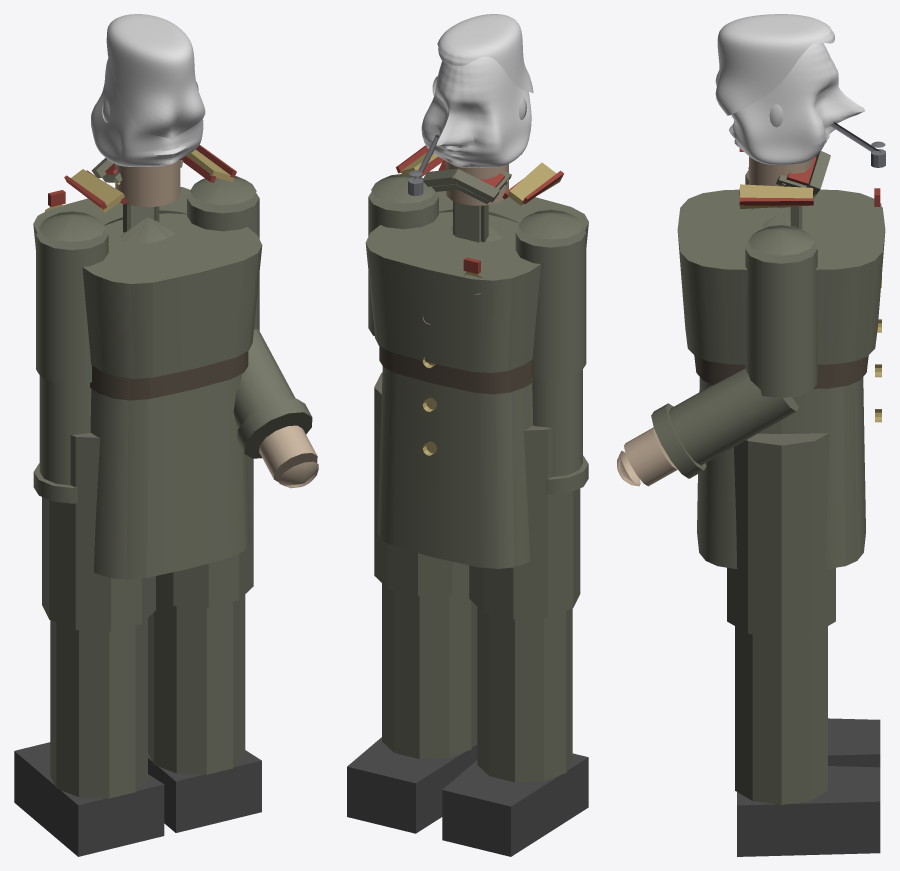
The model's file is personality_elder.glb.
3 views of the same model, side by side, from view 1: azimuth 30°, elevation 25°; view 2: azimuth 150°, elevation 25°; view 3: azimuth 270°, elevation 25° (orthographic). The views are drawn at different scales.
Visible parts, largest first — view 1: Tunic, Body, ShinLeft, ShinRight, LegLeft, ArmLeft, Hair, Boot, Boot.001, ForearmRight, ForearmLeft, Head (+6 smaller); view 2: Tunic, Body, ShinLeft, ShinRight, LegLeft, Boot, Head, ArmLeft, Boot.001, ForearmLeft, LegRight, Hair (+7 smaller); view 3: Body, LegRight, ShinRight, Tunic, ArmRight, Boot.001, Head, ForearmRight, Hair, Boot, HandRight, Belt (+4 smaller).
Part boxes in pixels (bbox=[...]): Tunic: bbox=[90, 374, 249, 579]; Body: bbox=[33, 187, 262, 378]; ShinLeft: bbox=[50, 618, 147, 798]; ShinRight: bbox=[148, 594, 245, 774]; LegLeft: bbox=[42, 432, 155, 631]; ArmLeft: bbox=[36, 211, 108, 384]; Hair: bbox=[106, 14, 205, 140]; Boot: bbox=[14, 742, 164, 856]; Boot.001: bbox=[148, 750, 261, 832]; ForearmRight: bbox=[233, 329, 312, 458]; ForearmLeft: bbox=[33, 376, 91, 503]; Head: bbox=[91, 58, 203, 166]; Tunic: bbox=[377, 366, 533, 568]; Body: bbox=[365, 191, 588, 372]; ShinLeft: bbox=[477, 607, 572, 782]; ShinRight: bbox=[382, 583, 477, 759]; LegLeft: bbox=[469, 425, 580, 619]; Boot: bbox=[442, 753, 588, 856]; Head: bbox=[421, 56, 531, 167]; ArmLeft: bbox=[515, 209, 586, 378]; Boot.001: bbox=[347, 737, 477, 833]; ForearmLeft: bbox=[532, 370, 588, 494]; LegRight: bbox=[374, 373, 469, 596]; Hair: bbox=[437, 14, 533, 92]; Body: bbox=[677, 189, 885, 364]; LegRight: bbox=[727, 432, 835, 638]; ShinRight: bbox=[735, 626, 827, 804]; Tunic: bbox=[697, 377, 865, 568]; ArmRight: bbox=[745, 225, 817, 398]; Boot.001: bbox=[737, 766, 880, 856]; Head: bbox=[729, 42, 865, 164]; ForearmRight: bbox=[651, 368, 798, 478]; Hair: bbox=[715, 14, 834, 117]; Boot: bbox=[828, 718, 880, 767]; HandRight: bbox=[617, 427, 677, 486]; Belt: bbox=[694, 356, 868, 388].
Size of the model in its own units: 0.5078 by 1.76 by 0.5439.
